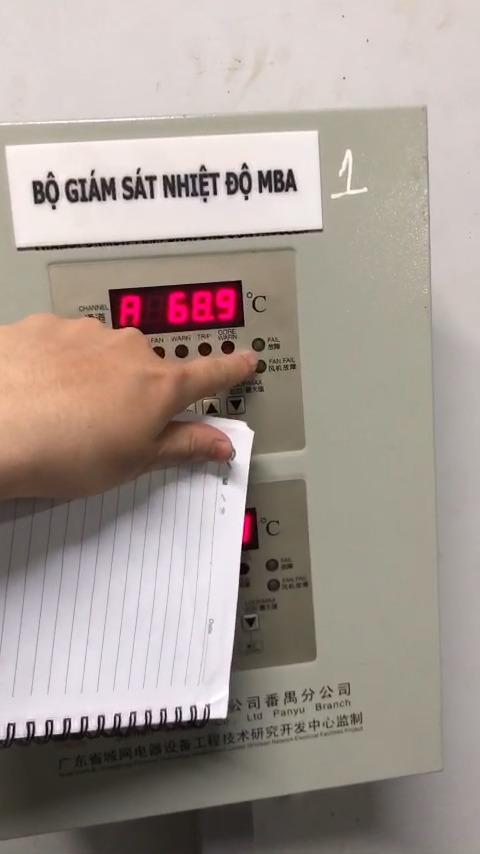led: (251, 337, 268, 354), (197, 340, 213, 357), (220, 339, 236, 355), (174, 344, 190, 359), (254, 359, 269, 374), (151, 345, 165, 360), (267, 579, 281, 593), (266, 559, 279, 573), (239, 562, 250, 578)
